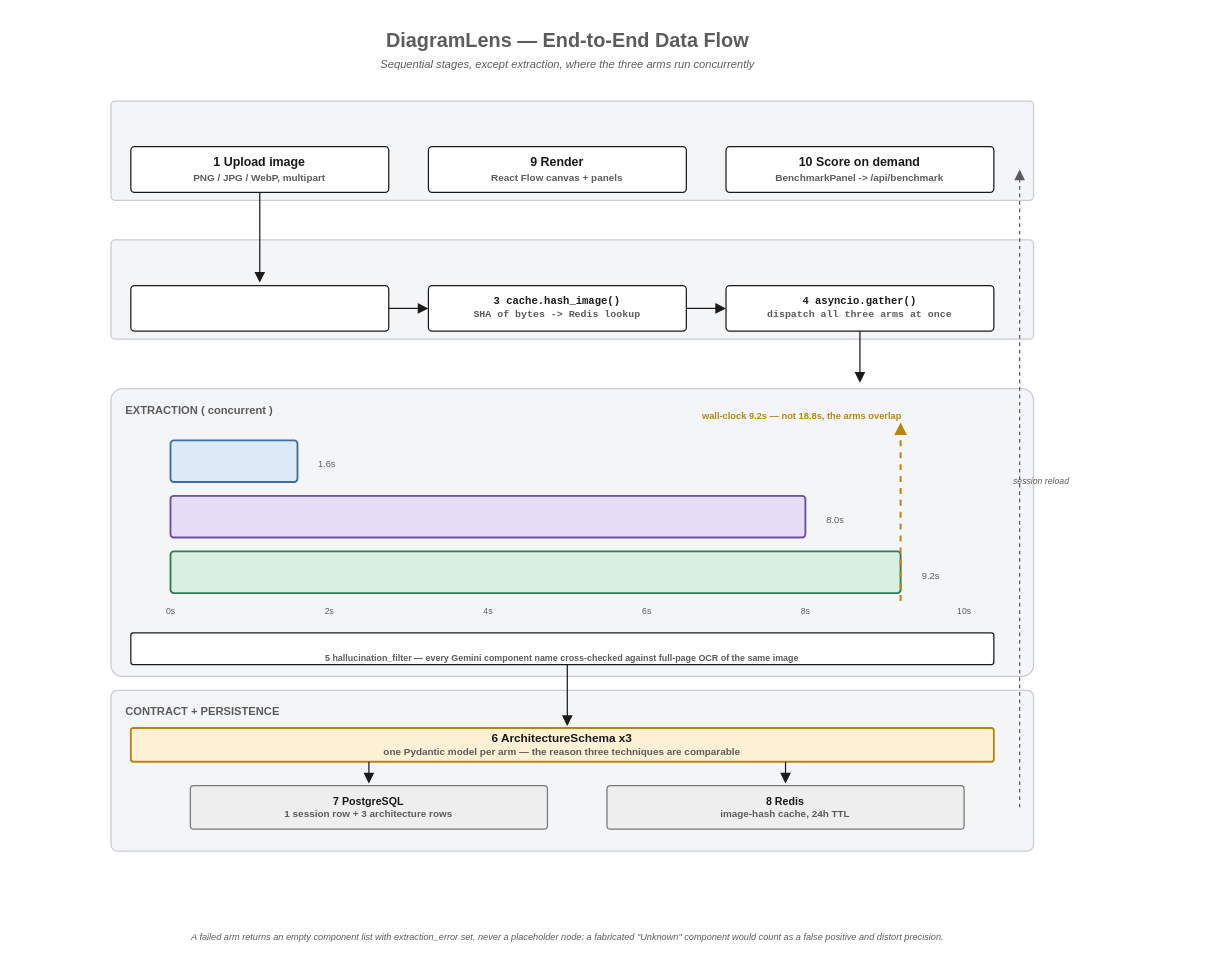
Image size: 1211x977. Some labels were removed from this diagram. Here are the shapes that lost their labels. From the top down, the box of each, then its label:
(110, 100, 1034, 200): CLIENT
(130, 284, 389, 331): 2 storage.save_upload() UUID filename + raw bytes
(110, 239, 1034, 339): API + ORCHESTRATION
(169, 439, 298, 482): Classical CV Tesseract · Canny · Hough
(169, 494, 806, 538): Hybrid ML PaddleOCR · contours · LSD
(169, 550, 901, 593): Gemini VLM network round trip + generation
